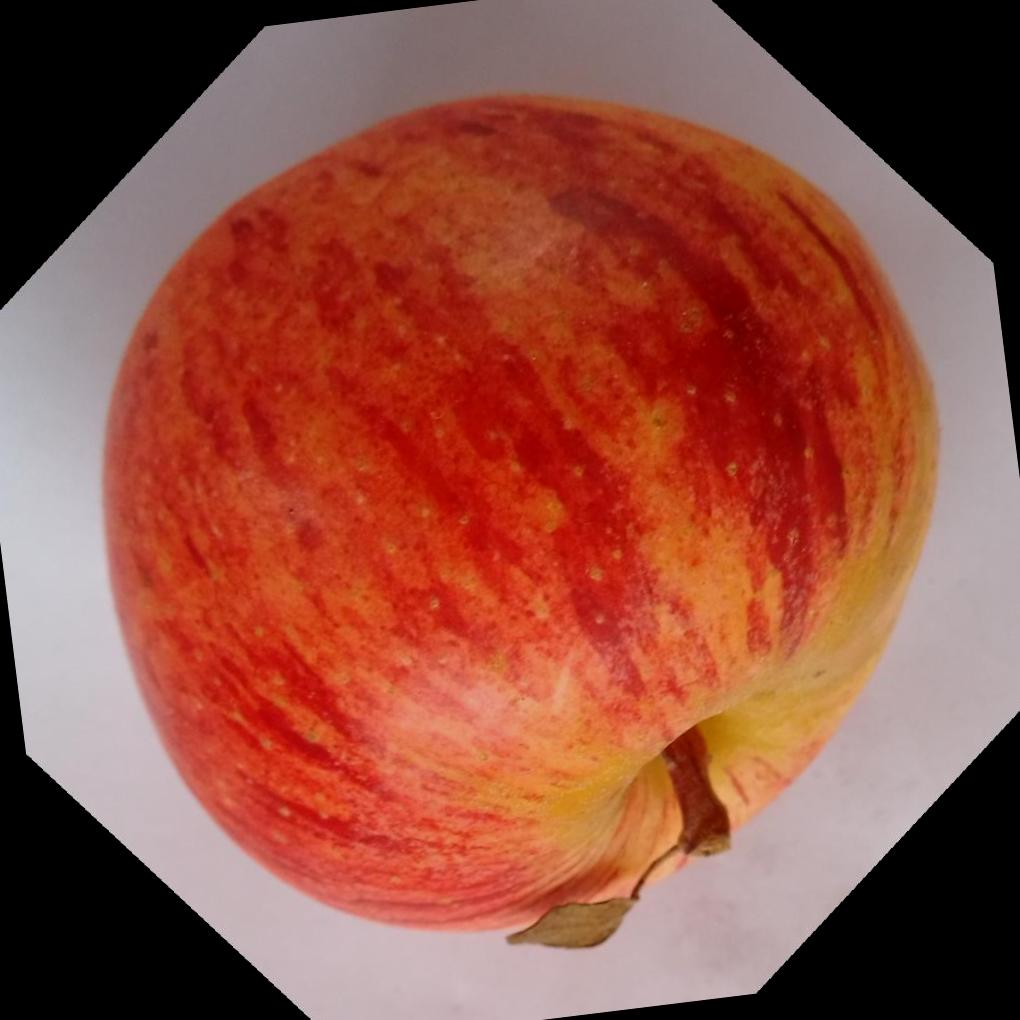FreshGuava: (98, 93, 943, 954)
